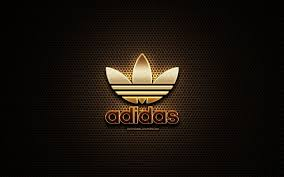adidas: (103, 52, 181, 126)
